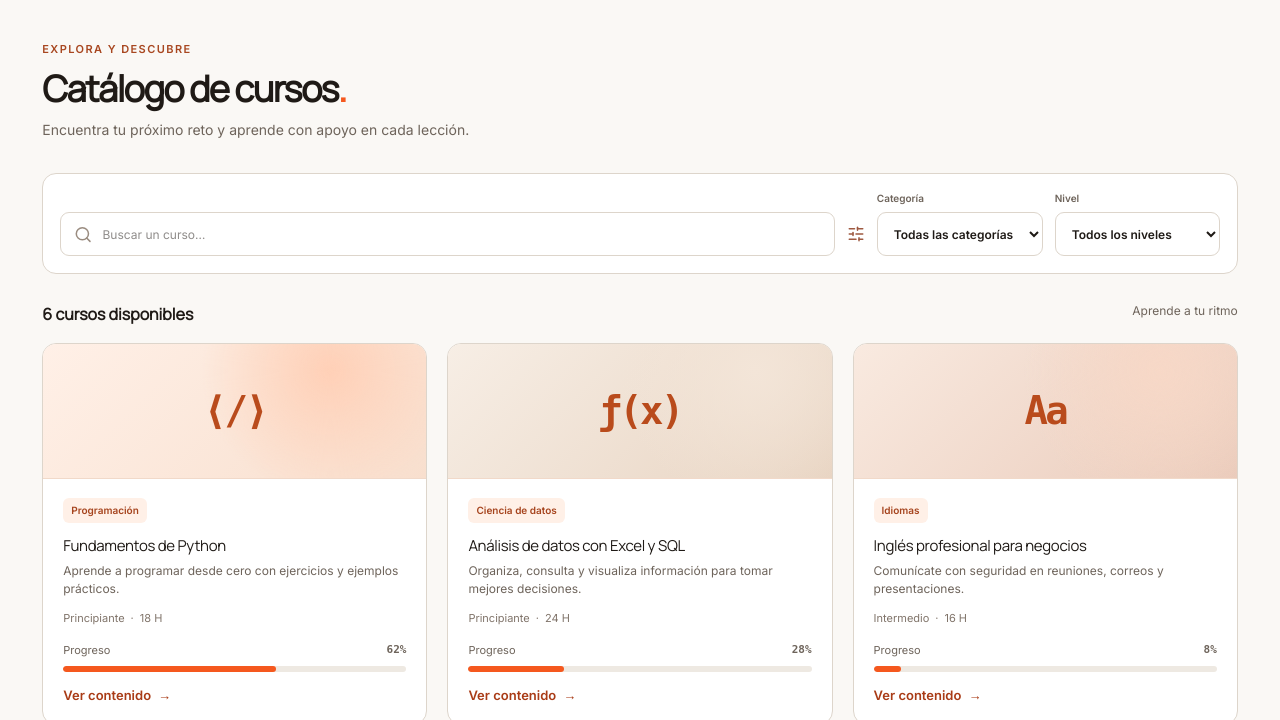
it: vista del catálogo › permite filtrar cursos y recuperar la lista completa
The width and height of the screenshot is (1280, 720).
In the search field named "Buscar cursos": (462, 234) 102,213 -> 821,255, type "Python"
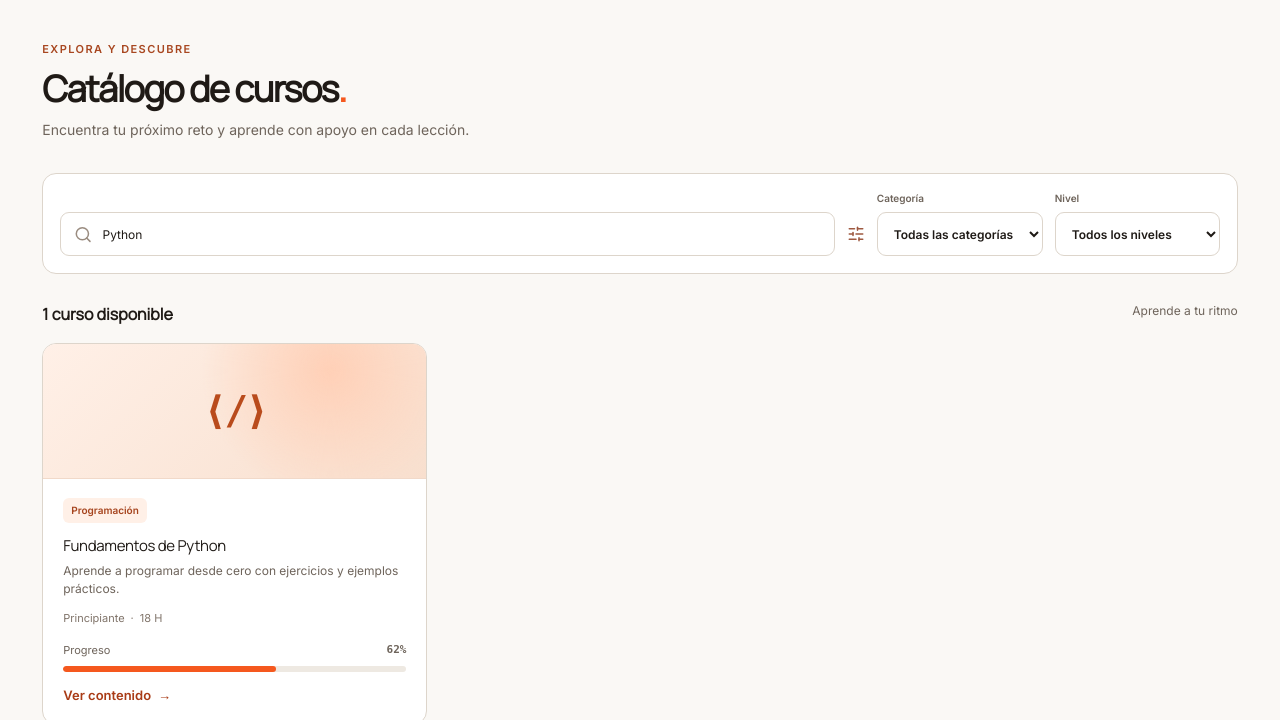
Expected: the heading "Fundamentos de Python" is shown, 63,535 -> 226,556
Result: the heading "Inglés profesional para negocios" is gone
Select "Idiomas" in the dropdown labelled "Categoría": (960, 234) 877,212 -> 1043,256
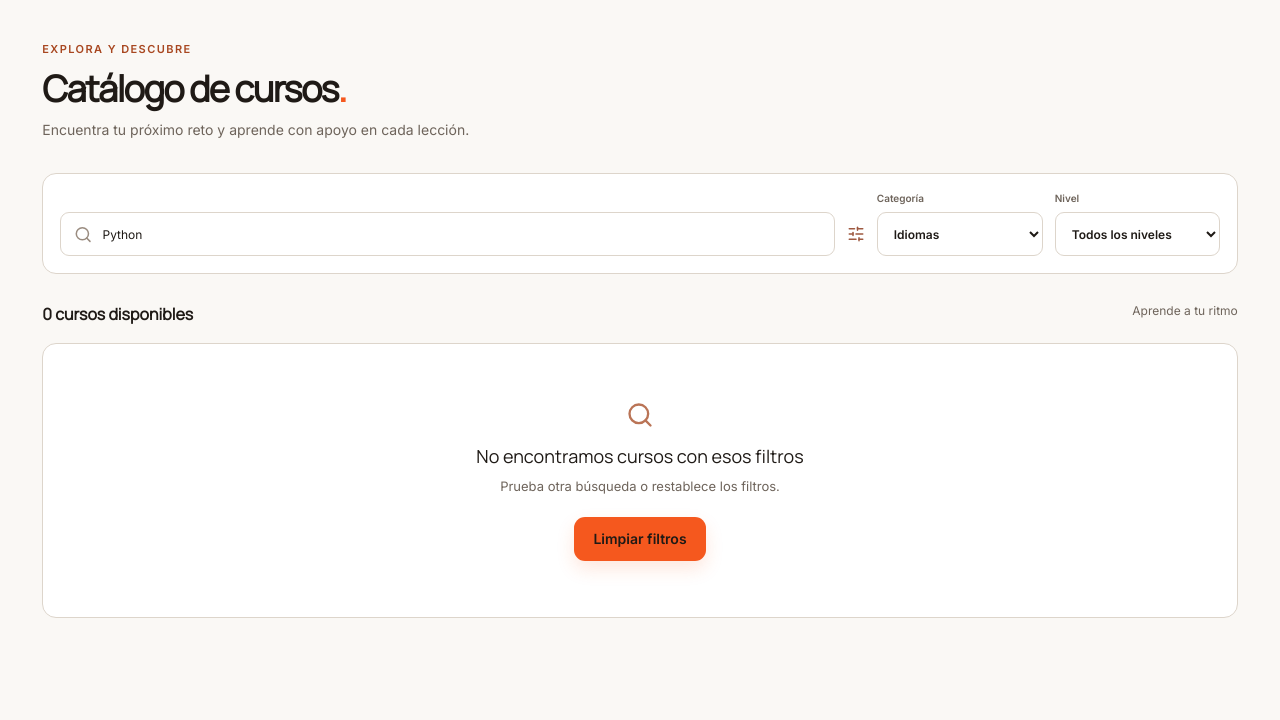
Result: the heading "No encontramos cursos con esos filtros" is shown at 476,443 -> 804,470
Click the button "Limpiar filtros": (640, 539) 574,517 -> 706,561
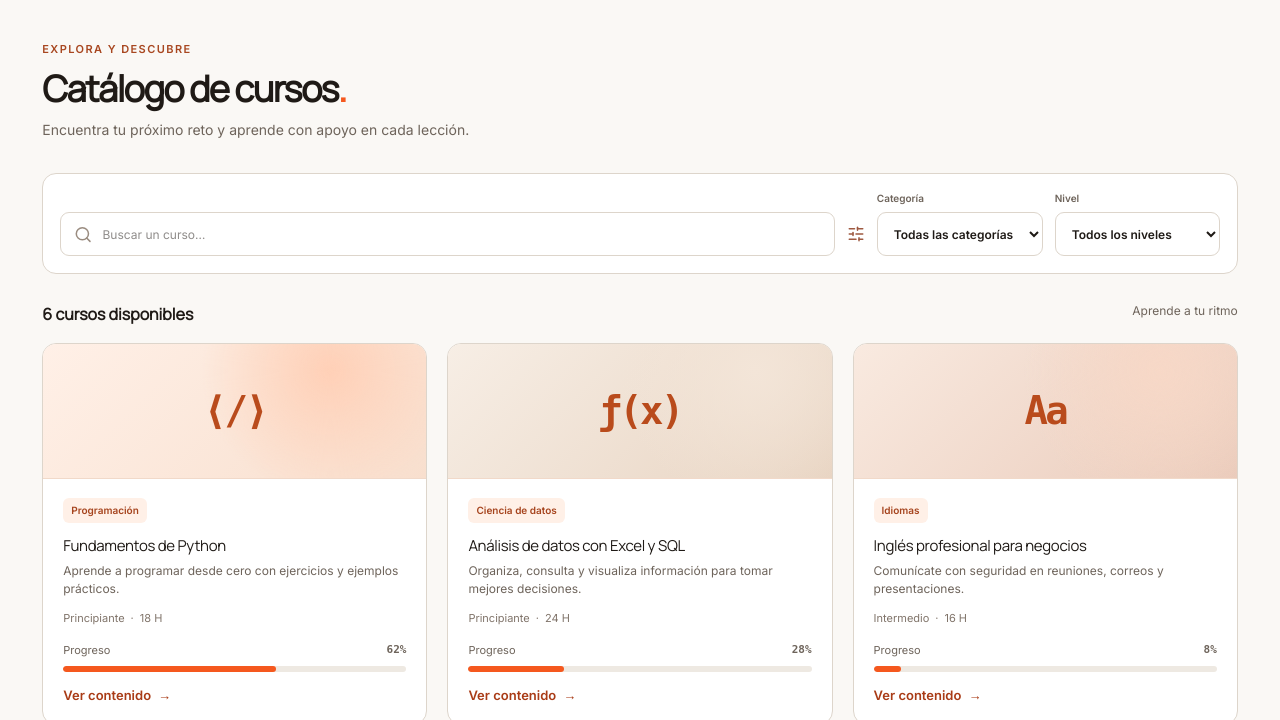
Result: the heading "Inglés profesional para negocios" is shown at 874,535 -> 1086,556
